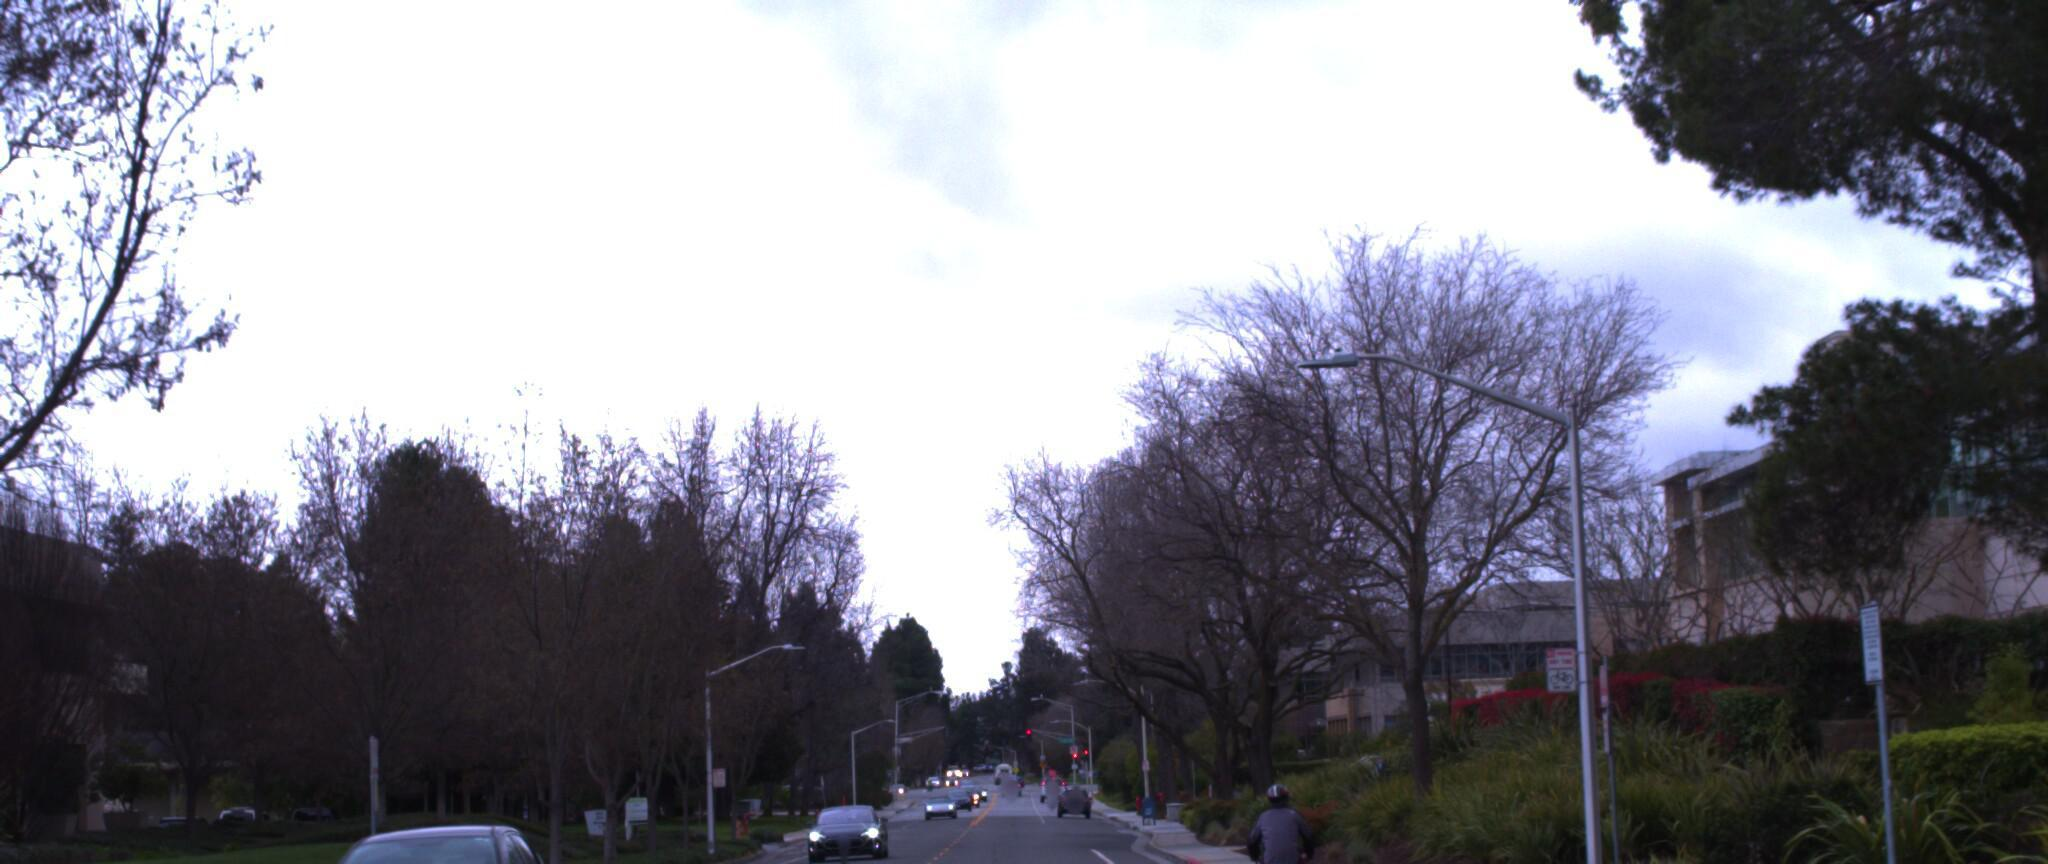bicycle: (1230, 762, 1336, 864)
car: (266, 818, 594, 864)
